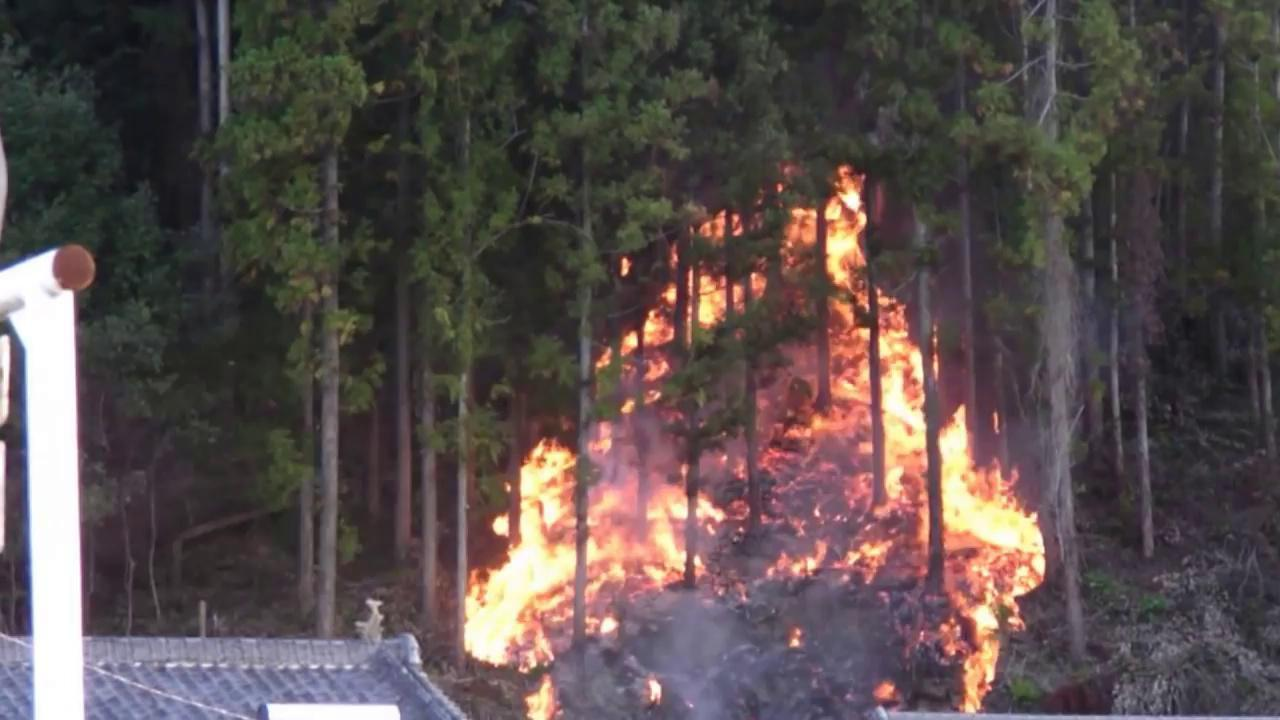Fire: (821, 162, 1046, 713), (464, 423, 739, 673), (595, 174, 815, 414), (767, 541, 829, 581), (522, 676, 562, 720)
